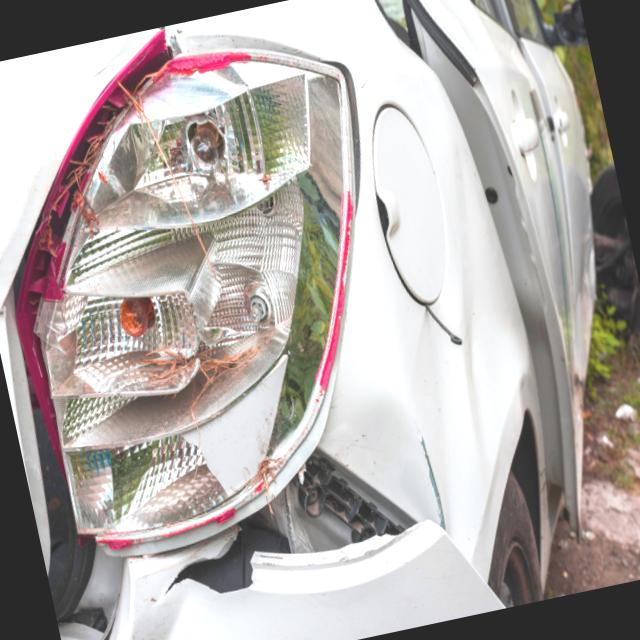Cabossage: (415, 169, 559, 461)
Dechirure: (117, 377, 434, 638), (59, 620, 125, 640)
Phare abime: (0, 14, 436, 579)
Rayure: (410, 417, 453, 533)
